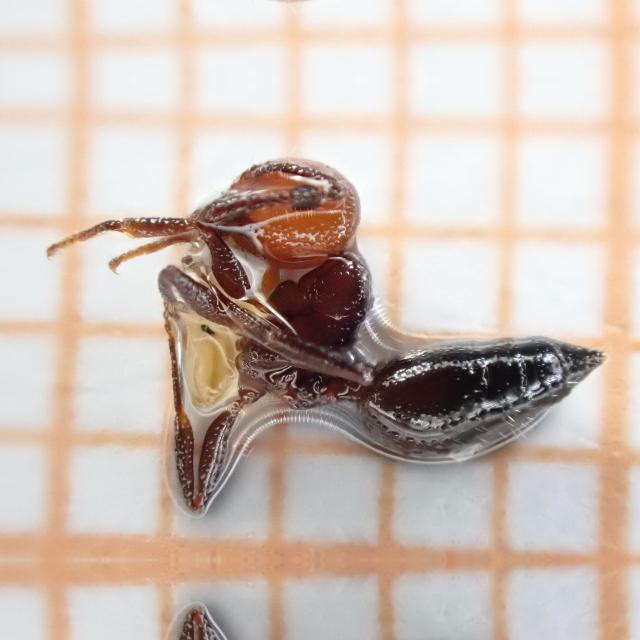Crematogaster: (70, 146, 616, 524)
